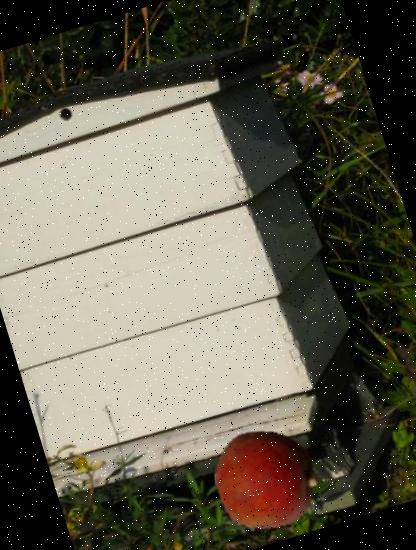Peach: (202, 416, 328, 542)
